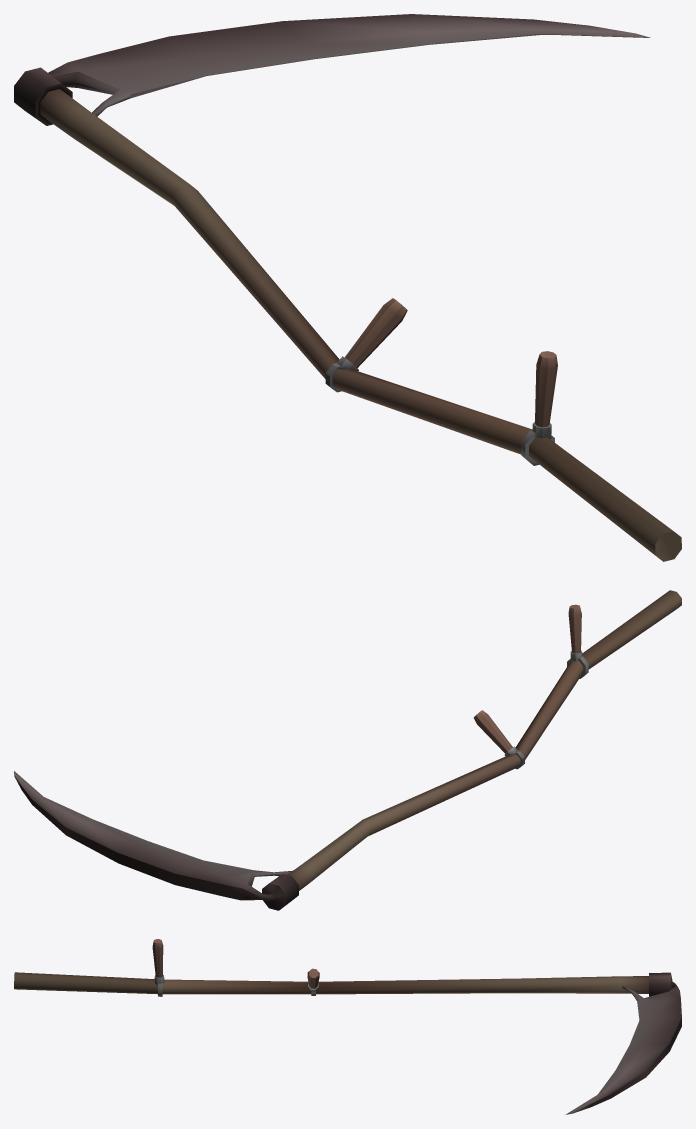
Rendered from human-tools-scythe_v1.glb.
3 views of the same model, one above another, from view 1: azimuth 30°, elevation 25°; view 2: azimuth 150°, elevation 25°; view 3: azimuth 270°, elevation 25° (orthographic). The views are drawn at different scales.
Parts seen in each view (by area): view 1: Scythe.001; view 2: Scythe.001; view 3: Scythe.001.
Part boxes in pixels (x1,y1,x2,y2): Scythe.001: (14, 14, 681, 561); Scythe.001: (14, 590, 681, 910); Scythe.001: (14, 939, 681, 1114).
Size of the model in its own units: 0.7591 by 0.1691 by 1.5.
